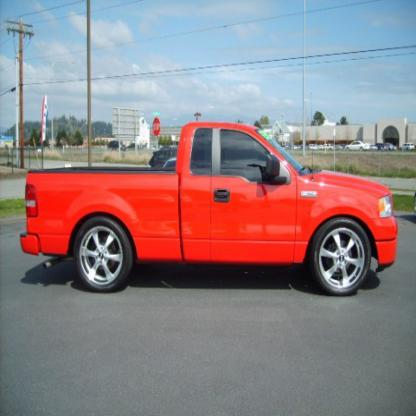Vehicle: (18, 120, 399, 297)
